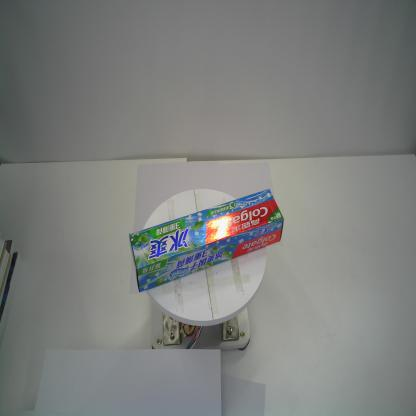Personal Hygiene: (129, 189, 283, 292)
